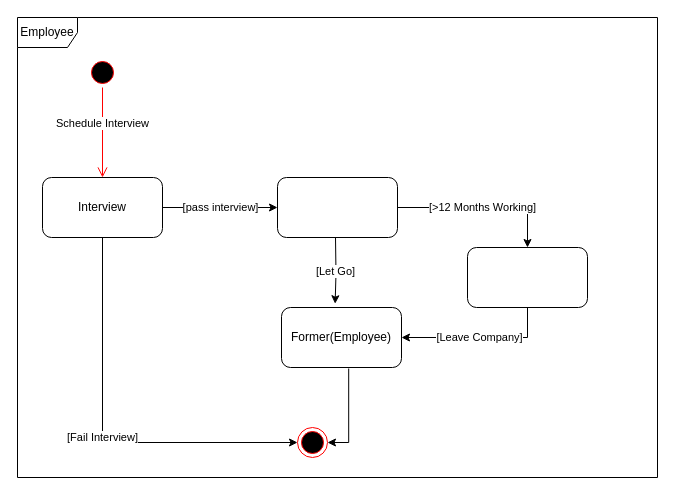
Some shapes in this 675 by 495 pixel diagram are drawn without their labels. The centre of each missing label's shape, as x and y in pixels:
Current(Employee): the point at 527,277
Probation: the point at 337,207
